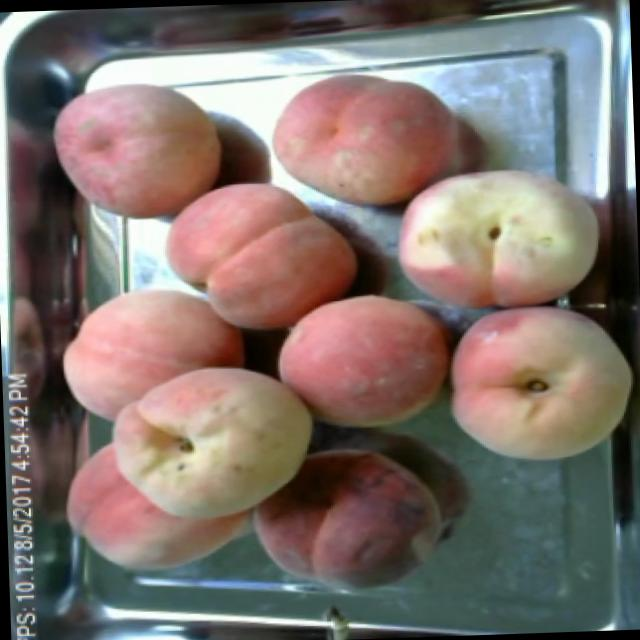Fruit: (95, 348, 326, 532), (239, 427, 465, 612), (152, 164, 372, 345), (257, 52, 481, 222), (380, 150, 610, 312), (431, 299, 640, 476), (264, 274, 470, 443), (46, 267, 255, 433), (37, 65, 235, 232)
